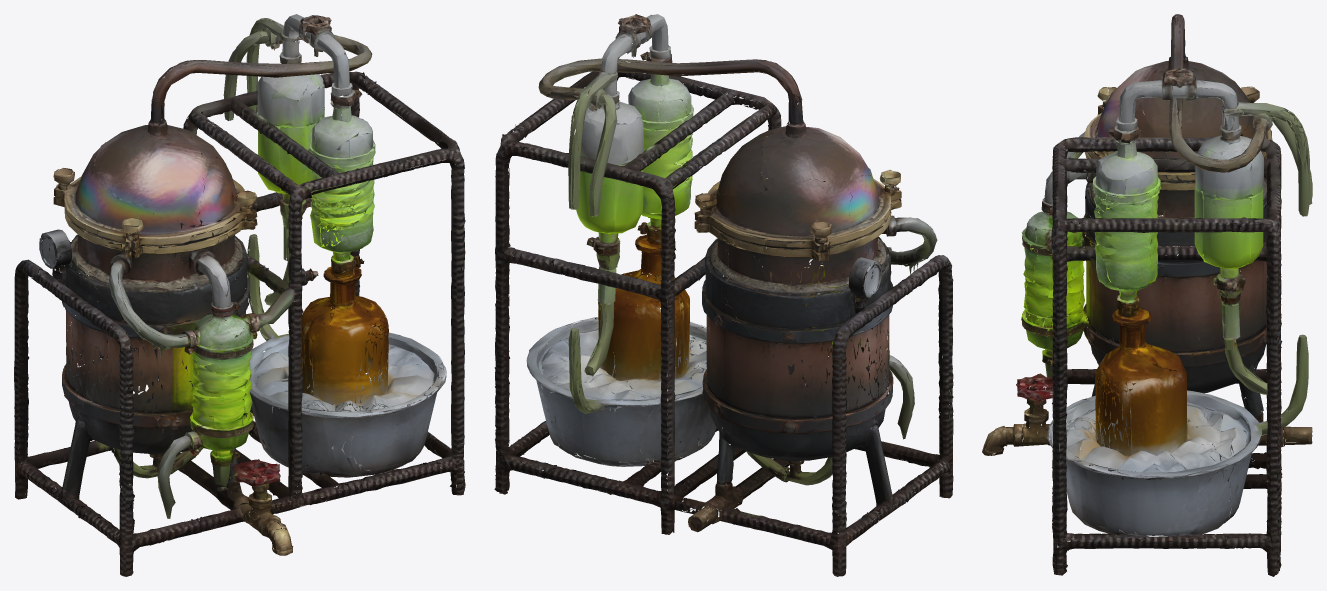
File: tallow_vaccine_alembic.glb
3 renders of one model, left to right at view 1: azimuth 30°, elevation 25°; view 2: azimuth 150°, elevation 25°; view 3: azimuth 270°, elevation 25°, orthographic.
Parts seen in each view (by area): view 1: node_0; view 2: node_0; view 3: node_0.
Boxes of the visible parts, bbox=[...] form: node_0: bbox=[14, 14, 465, 576]; node_0: bbox=[494, 14, 953, 576]; node_0: bbox=[982, 14, 1312, 576].
Bounding box in the file's own units: 0.7185 × 0.8644 × 0.5644.
1 material, 1 textured.
